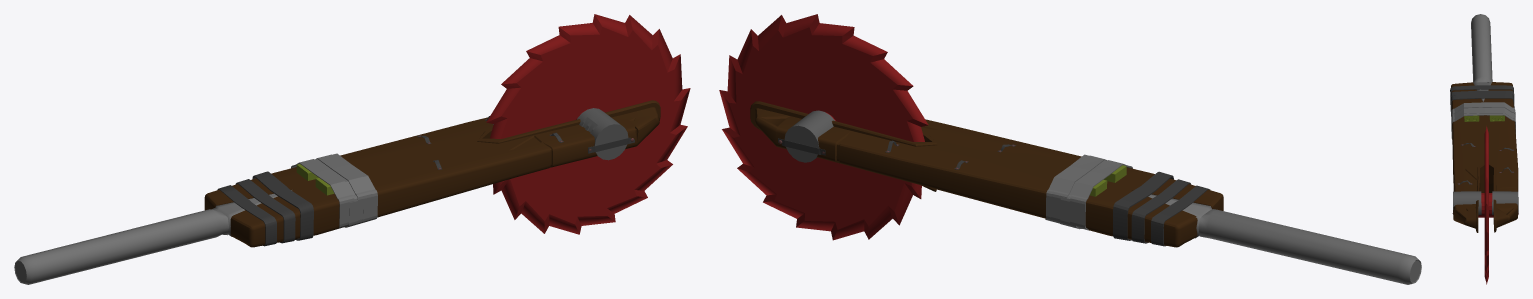
The model's file is RipperCricket.FBX.
3 views of the same model, side by side, from view 1: azimuth 30°, elevation 25°; view 2: azimuth 150°, elevation 25°; view 3: azimuth 270°, elevation 25° (orthographic). The views are drawn at different scales.
Parts seen in each view (by area): view 1: SawBlade, BatBlade, BatHandle, Power1, Metal07, Ducktape03, Metal05, Ducktape02, Metal06, Ducktape04, Ducktape01; view 2: SawBlade, BatBlade, BatHandle, Power002, Metal07, Ducktape03, Ducktape02, Metal05, Metal06, Ducktape01, Ducktape04; view 3: BatBlade, BatHandle, SawBlade, Power1, Ducktape03, Ducktape02, Metal07, Power002, Metal06, Metal05, Ducktape04, Ducktape01 (+2 smaller).
Boxes of the visible parts, x1=… form: SawBlade: x1=486, y1=14, x2=690, y2=234; BatBlade: x1=204, y1=100, x2=660, y2=247; BatHandle: x1=14, y1=190, x2=291, y2=284; Power1: x1=577, y1=108, x2=628, y2=160; Metal07: x1=252, y1=171, x2=313, y2=240; Ducktape03: x1=291, y1=159, x2=354, y2=228; Metal05: x1=235, y1=179, x2=295, y2=243; Ducktape02: x1=315, y1=154, x2=372, y2=220; Metal06: x1=217, y1=185, x2=276, y2=246; Ducktape04: x1=332, y1=153, x2=377, y2=222; Ducktape01: x1=315, y1=159, x2=362, y2=227; SawBlade: x1=719, y1=14, x2=928, y2=240; BatBlade: x1=750, y1=101, x2=1223, y2=247; BatHandle: x1=1148, y1=194, x2=1421, y2=284; Power002: x1=784, y1=110, x2=834, y2=162; Metal07: x1=1113, y1=171, x2=1173, y2=240; Ducktape03: x1=1070, y1=160, x2=1132, y2=230; Ducktape02: x1=1051, y1=155, x2=1107, y2=221; Metal05: x1=1131, y1=179, x2=1191, y2=243; Metal06: x1=1151, y1=185, x2=1210, y2=246; Ducktape01: x1=1060, y1=160, x2=1106, y2=229; Ducktape04: x1=1045, y1=154, x2=1088, y2=223; BatBlade: x1=1451, y1=82, x2=1518, y2=232; BatHandle: x1=1471, y1=14, x2=1492, y2=101; SawBlade: x1=1478, y1=126, x2=1493, y2=284; Power1: x1=1453, y1=191, x2=1481, y2=215; Ducktape03: x1=1451, y1=102, x2=1515, y2=129; Ducktape02: x1=1451, y1=108, x2=1515, y2=133; Metal07: x1=1450, y1=93, x2=1513, y2=116; Power002: x1=1492, y1=191, x2=1518, y2=214; Metal06: x1=1450, y1=85, x2=1513, y2=104; Metal05: x1=1450, y1=90, x2=1514, y2=111; Ducktape04: x1=1451, y1=113, x2=1515, y2=139; Ducktape01: x1=1452, y1=107, x2=1515, y2=131.
Bounding box in the file's own units: 217 × 66.9 × 28.56.
